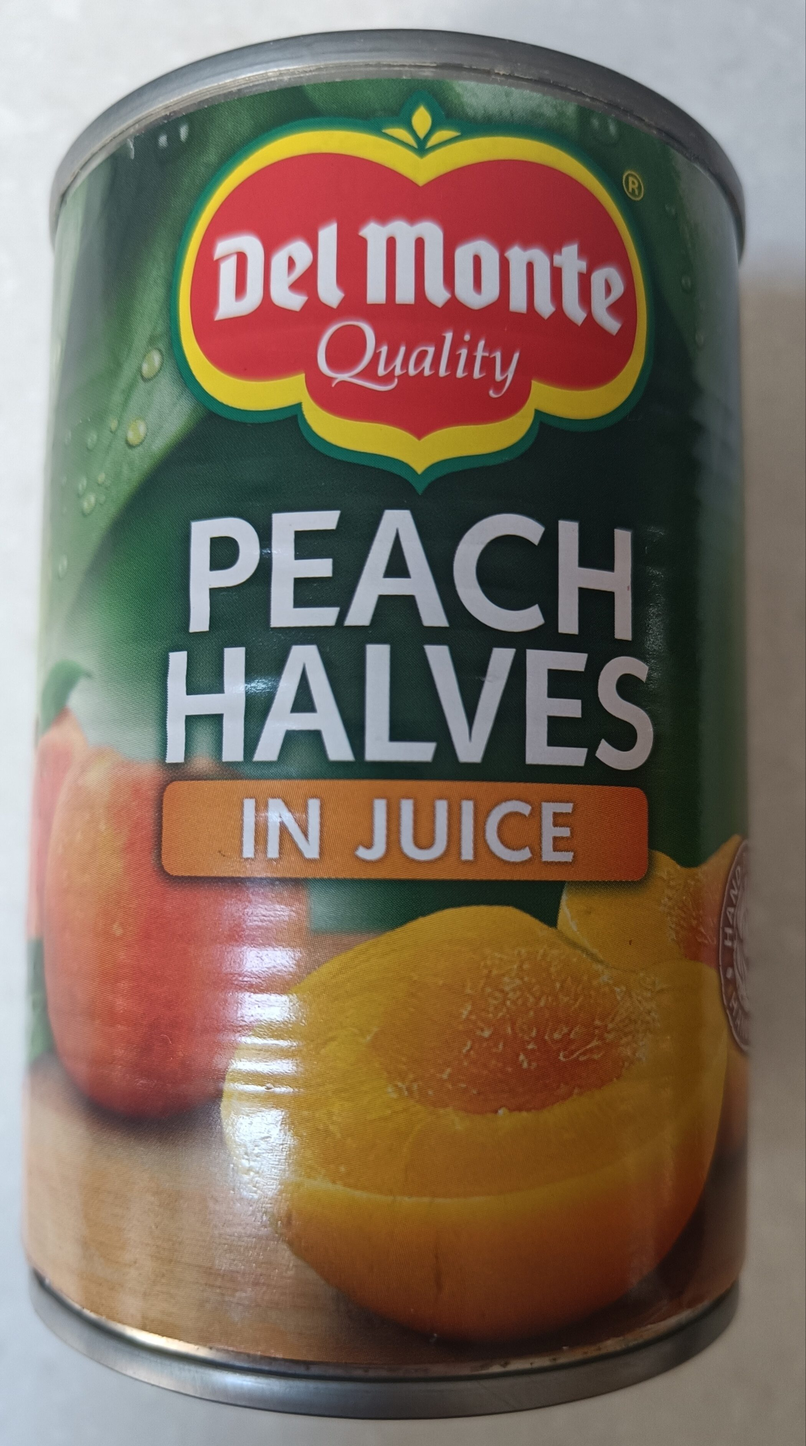Halve perziken op sap: (40, 72, 766, 1374)
